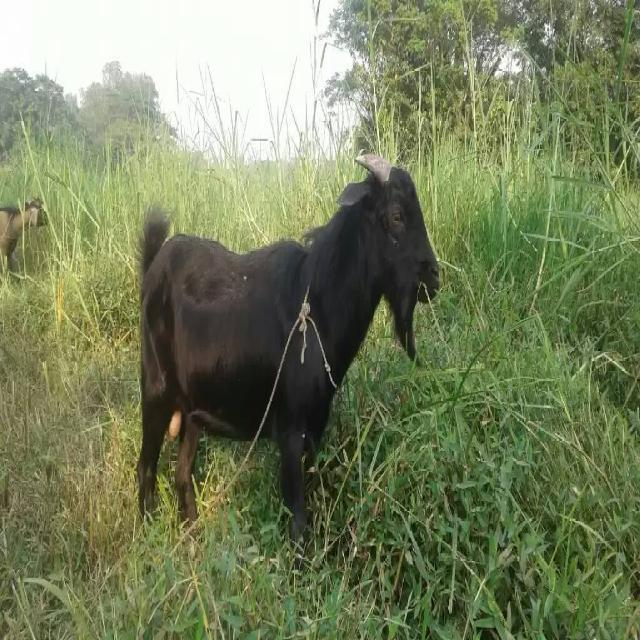Goat: (136, 151, 440, 551), (0, 196, 48, 276)
